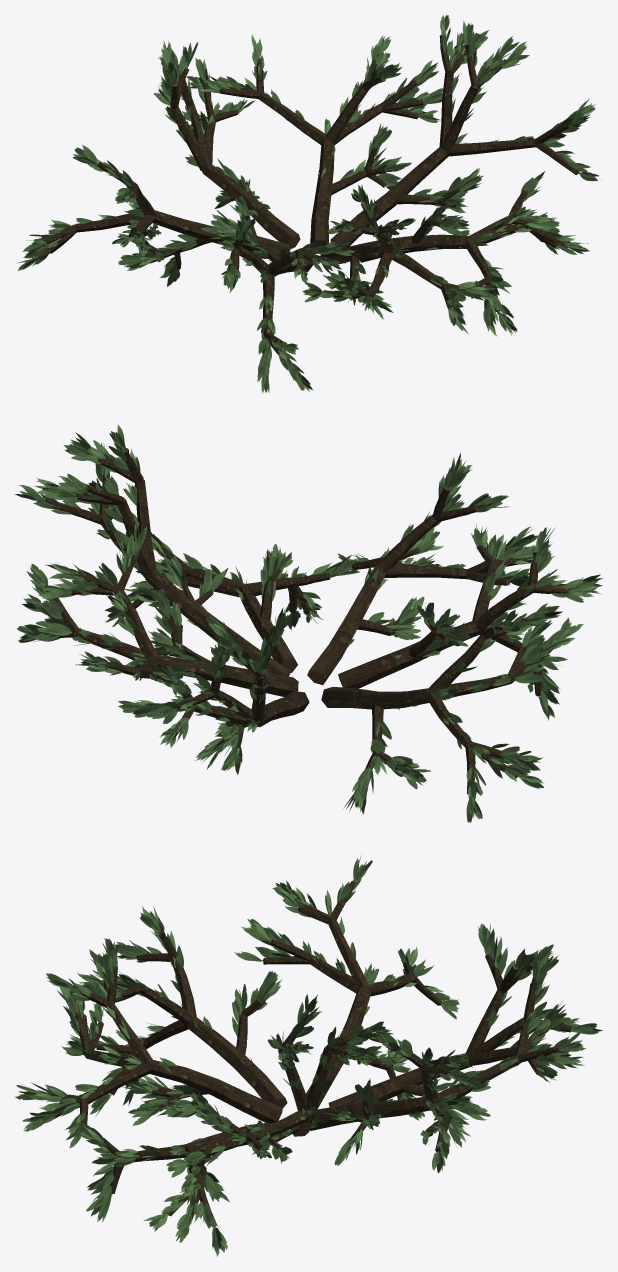
File: juniper_low_v02.glb
3 renders of one model, top to bottom at view 1: azimuth 30°, elevation 25°; view 2: azimuth 150°, elevation 25°; view 3: azimuth 270°, elevation 25°, orthographic. The views are drawn at different scales.
Visible parts, largest first — view 1: juniper_low_v02; view 2: juniper_low_v02; view 3: juniper_low_v02.
Boxes of the visible parts, bbox=[...] form: juniper_low_v02: bbox=[17, 15, 599, 392]; juniper_low_v02: bbox=[14, 425, 602, 822]; juniper_low_v02: bbox=[15, 856, 602, 1256].
Size of the model in its own units: 1.67 by 0.7536 by 1.49.
2 materials, 2 textured.
